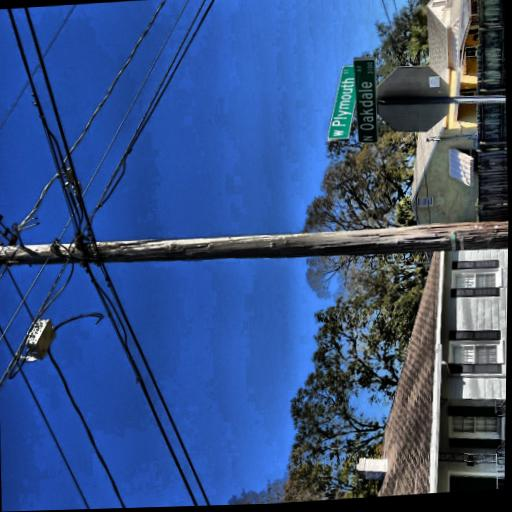pole: (87, 0, 167, 509)
street light: (12, 1, 130, 119)
